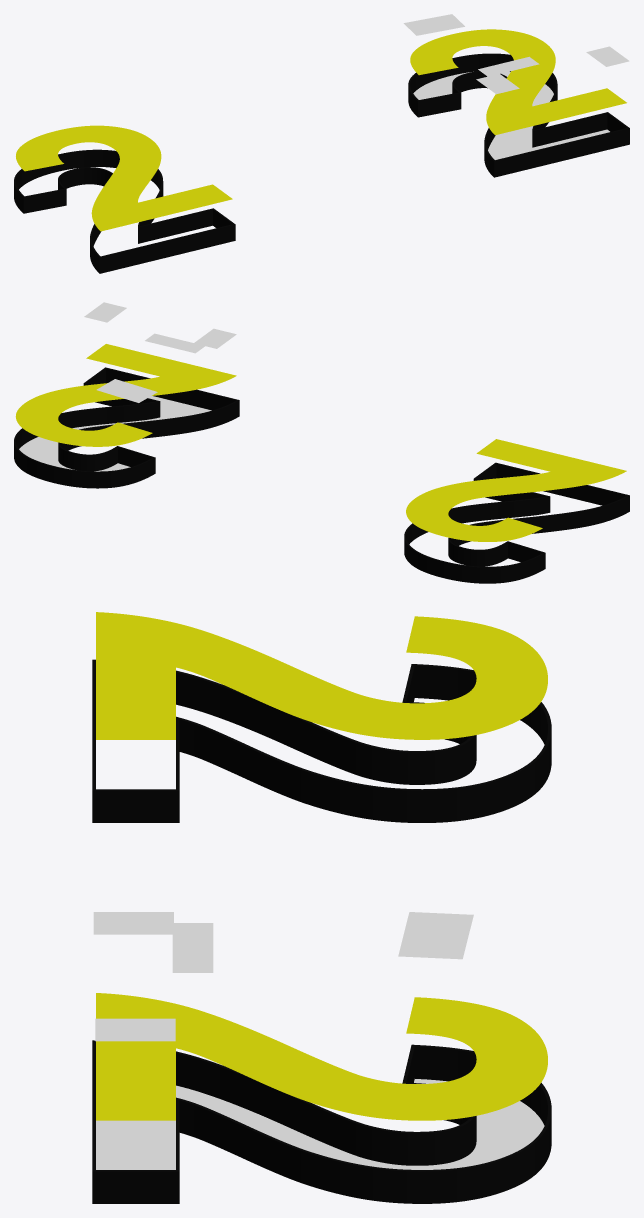
The picture shows the model from 3 angles, top to bottom: view 1: azimuth 30°, elevation 25°; view 2: azimuth 150°, elevation 25°; view 3: azimuth 270°, elevation 25°; orthographic projection. The views are drawn at different scales.
Parts seen in each view (by area): view 1: 2_show_fill, 2_show_border, 2_border, 2_paint_1, 2_paint_2, 2_origin, trigger_2_1_start, trigger_2_1_end, trigger_2_2_end, trigger_2_2_start; view 2: 2_show_border, 2_border, 2_show_fill, 2_paint_1, 2_paint_2, 2_origin, trigger_2_1_start, trigger_2_1_end, trigger_2_2_start, trigger_2_2_end; view 3: 2_show_fill, 2_border, 2_show_border, 2_paint_1, 2_origin, 2_paint_2, trigger_2_1_start, trigger_2_1_end, trigger_2_2_end, trigger_2_2_start.
Part boxes in pixels (box(x1,y1,x2,y2)): 2_show_fill: box(16, 125, 232, 231); 2_show_border: box(14, 149, 235, 273); 2_border: box(408, 53, 629, 177); 2_paint_1: box(410, 29, 555, 117); 2_paint_2: box(486, 88, 626, 135); 2_origin: box(413, 71, 609, 159); trigger_2_1_start: box(403, 14, 464, 35); trigger_2_1_end: box(478, 56, 539, 76); trigger_2_2_end: box(586, 46, 629, 66); trigger_2_2_start: box(476, 74, 519, 94); 2_show_border: box(404, 462, 629, 583); 2_border: box(14, 367, 239, 488); 2_show_fill: box(406, 439, 626, 541); 2_paint_1: box(15, 376, 205, 446); 2_paint_2: box(86, 344, 236, 387); 2_origin: box(19, 396, 211, 471); trigger_2_1_start: box(96, 379, 157, 402); trigger_2_1_end: box(145, 333, 204, 353); trigger_2_2_start: box(194, 328, 236, 348); trigger_2_2_end: box(84, 302, 126, 322); 2_show_fill: box(96, 612, 547, 739); 2_border: box(92, 1040, 551, 1203); 2_show_border: box(92, 659, 551, 822); 2_paint_1: box(175, 997, 547, 1120); 2_origin: box(96, 1079, 544, 1169); 2_paint_2: box(96, 993, 175, 1120); trigger_2_1_start: box(398, 912, 473, 959); trigger_2_1_end: box(172, 923, 213, 972); trigger_2_2_end: box(95, 1018, 175, 1041); trigger_2_2_start: box(93, 912, 173, 934).
Size of the model in its own units: 1.35 by 0.2 by 0.5099.
